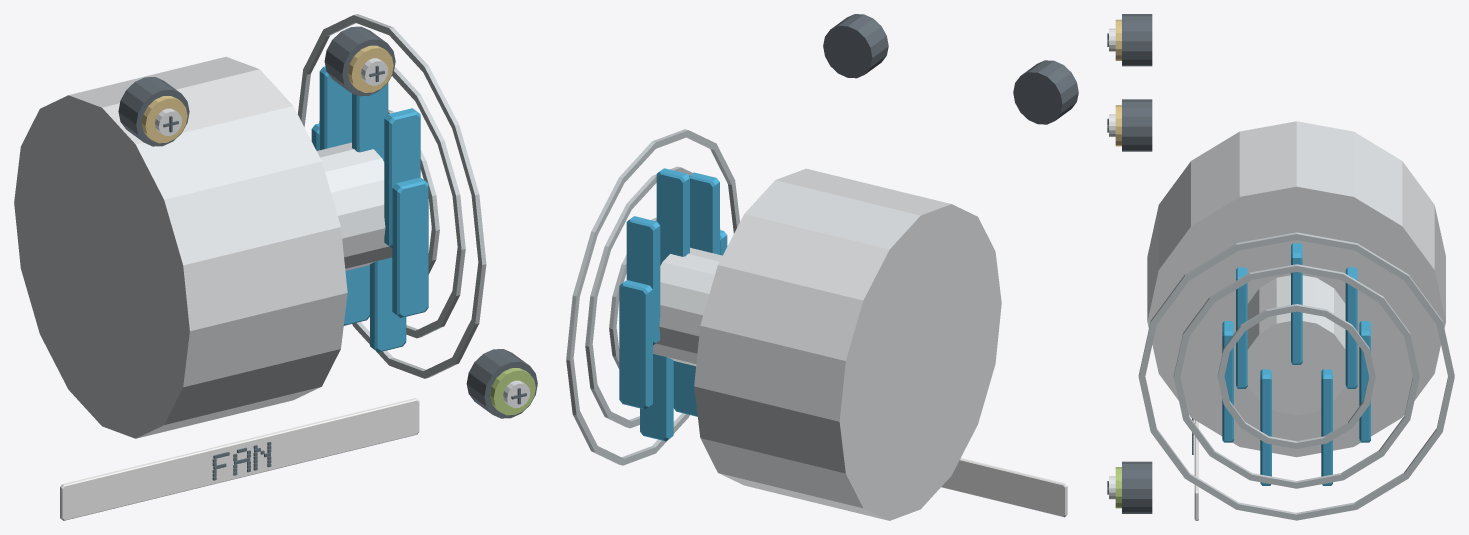
File: fan.glb
3 renders of one model, left to right at view 1: azimuth 30°, elevation 25°; view 2: azimuth 150°, elevation 25°; view 3: azimuth 270°, elevation 25°, orthographic. The views are drawn at different scales.
Parts seen in each view (by area): view 1: fan-preview; view 2: fan-preview; view 3: fan-preview.
Part boxes in pixels (x1=…): fan-preview: x1=14, y1=14, x2=537, y2=520; fan-preview: x1=566, y1=14, x2=1078, y2=520; fan-preview: x1=1107, y1=14, x2=1454, y2=520.
Size of the model in its own units: 2.54 by 2.51 by 2.08.
